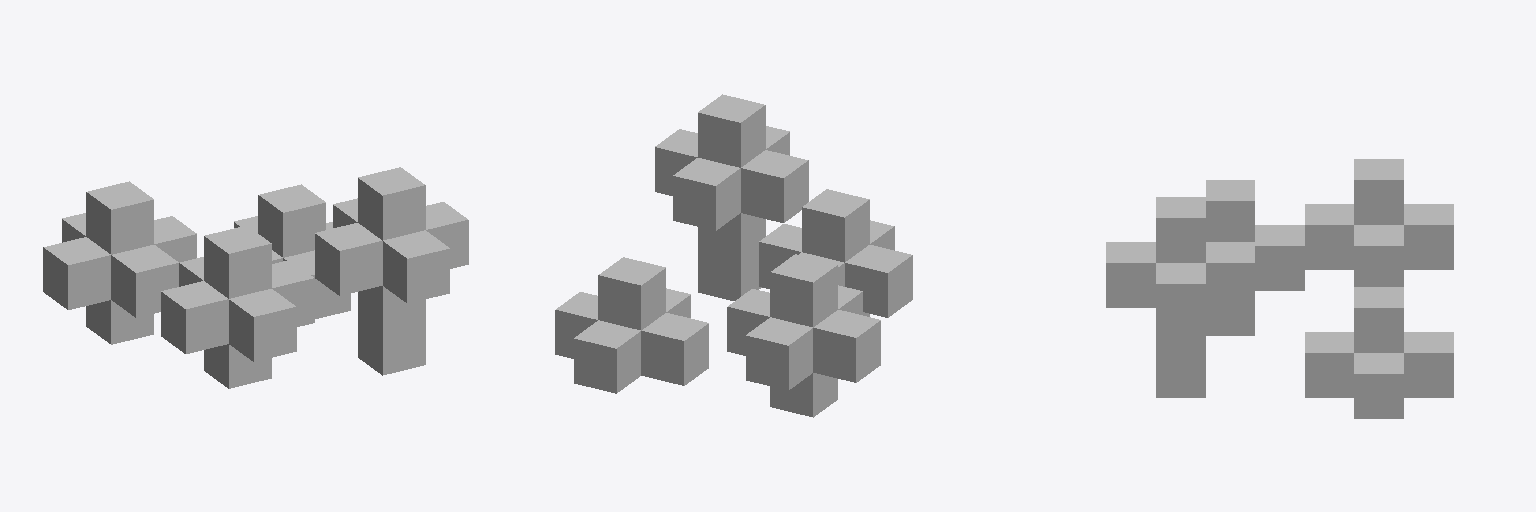
The model's file is nightBerries2-0.obj.
3 renders of one model, left to right at view 1: azimuth 30°, elevation 25°; view 2: azimuth 150°, elevation 25°; view 3: azimuth 270°, elevation 25°, orthographic.
Parts seen in each view (by area): view 1: object 1; view 2: object 1; view 3: object 1.
Part boxes in pixels (left/top/right/bottom): object 1: left=43, top=167, right=468, bottom=388; object 1: left=555, top=94, right=912, bottom=417; object 1: left=1106, top=159, right=1453, bottom=418.
Size of the model in its own units: 0.7 by 0.4 by 0.7.